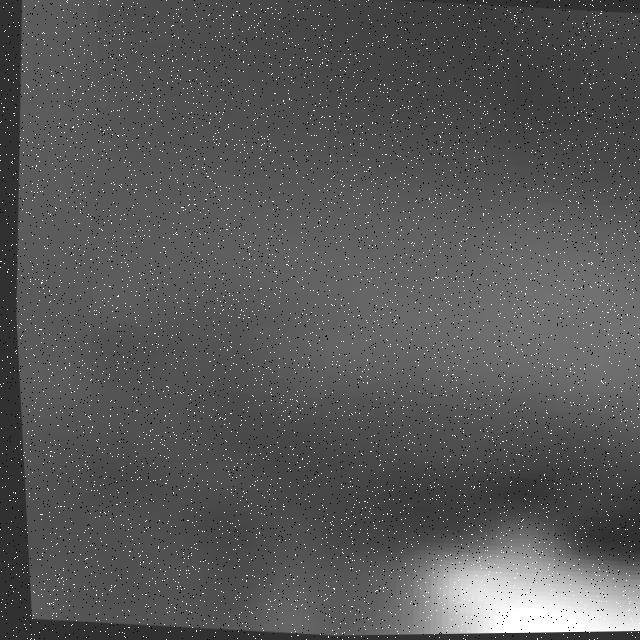person: (383, 504, 640, 637)
